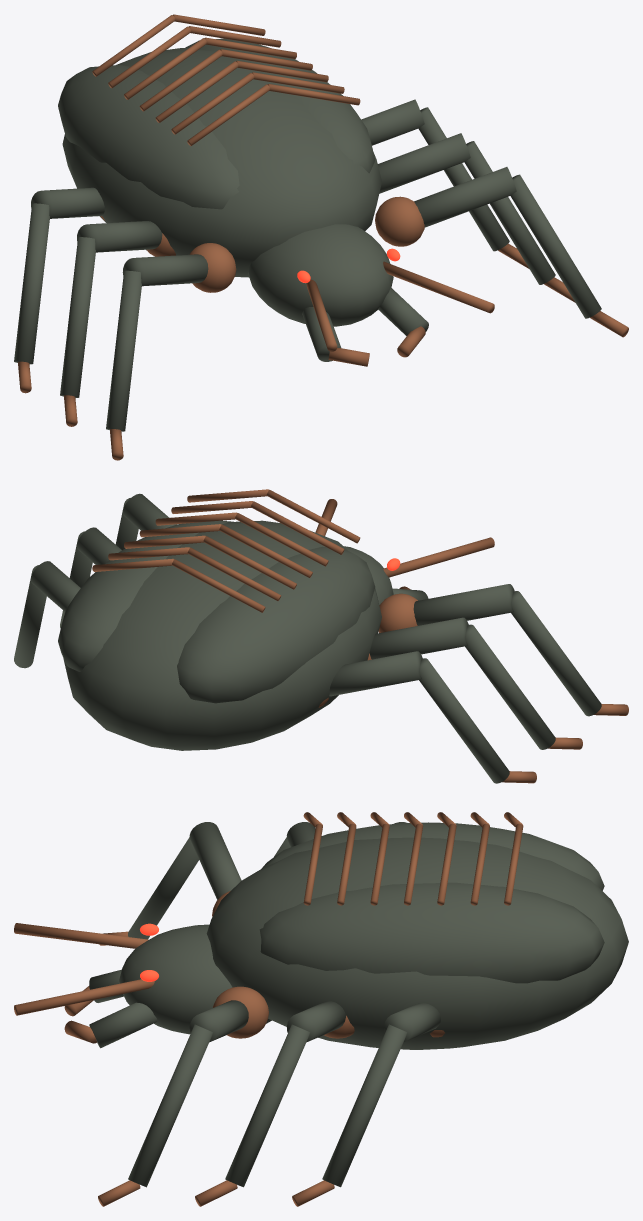
File: beetle.glb
3 renders of one model, top to bottom at view 1: azimuth 30°, elevation 25°; view 2: azimuth 150°, elevation 25°; view 3: azimuth 270°, elevation 25°, orthographic. The views are drawn at different scales.
Visible parts, largest first — view 1: body_shell.011, body_copper.021, leg0R_shell.011, leg0L_shell.011, leg1L_shell.011, leg1R_shell.011, leg2L_shell.011, leg2R_shell.011, leg0R_copper.011, leg0L_copper.011, leg1L_copper.011; view 2: body_shell.011, body_copper.021, leg0L_shell.011, leg1L_shell.011, leg2L_shell.011, leg2R_shell.011, leg1R_shell.011, leg0R_shell.011, leg0L_copper.011; view 3: body_shell.011, body_copper.021, leg0R_shell.011, leg1R_shell.011, leg2R_shell.011, leg0L_shell.011, leg0R_copper.011, leg1R_copper.011, leg1L_shell.011, leg2R_copper.011.
Boxes of the visible parts, <box> form: body_shell.011: <box>58,38,428,361</box>; body_copper.021: <box>92,14,494,366</box>; leg0R_shell.011: <box>414,167,601,318</box>; leg0L_shell.011: <box>106,254,208,431</box>; leg1L_shell.011: <box>60,221,162,397</box>; leg1R_shell.011: <box>378,133,555,284</box>; leg2L_shell.011: <box>14,187,104,364</box>; leg2R_shell.011: <box>361,99,509,251</box>; leg0R_copper.011: <box>375,196,628,337</box>; leg0L_copper.011: <box>110,243,236,460</box>; leg1L_copper.011: <box>64,233,175,426</box>; body_shell.011: <box>58,520,428,750</box>; body_copper.021: <box>92,489,494,612</box>; leg0L_shell.011: <box>413,584,601,716</box>; leg1L_shell.011: <box>369,617,555,749</box>; leg2L_shell.011: <box>329,651,509,783</box>; leg2R_shell.011: <box>14,561,80,668</box>; leg1R_shell.011: <box>60,527,121,628</box>; leg0R_shell.011: <box>115,493,176,549</box>; leg0L_copper.011: <box>378,593,628,715</box>; body_shell.011: <box>89,822,628,1049</box>; body_copper.021: <box>14,812,523,1043</box>; leg0R_shell.011: <box>128,1000,248,1187</box>; leg1R_shell.011: <box>225,1001,345,1187</box>; leg2R_shell.011: <box>322,1003,440,1187</box>; leg0L_shell.011: <box>128,822,241,939</box>; leg0R_copper.011: <box>98,986,268,1206</box>; leg1R_copper.011: <box>195,1015,354,1206</box>; leg1L_shell.011: <box>274,822,315,856</box>; leg2R_copper.011: <box>292,1030,444,1206</box>.
Bounding box in the file's own units: 1.04 × 0.4593 × 1.01.
